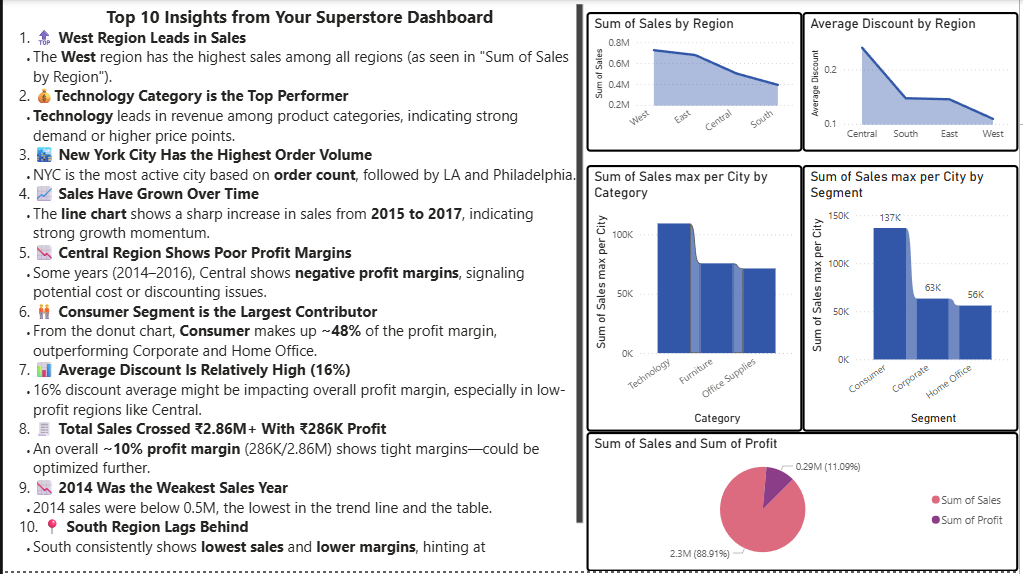

Layout of this report page (visuals, bound fields, positions):
{"tool":"powerbi","page":{"name":"Page 2","canvas":[1280,720],"ordinal":1},"visuals":[{"type":"textbox","box":[16,0,720,704],"z":0},{"type":"lineChart","fields":{"Category":["Cleaned_Superstore_Data.Region Hierarchy.Region"],"Y":["Sum(Cleaned_Superstore_Data.Sales)"]},"box":[736,16,272,176],"z":1000},{"type":"columnChart","fields":{"Y":["Cleaned_Superstore_Data.Sum of Sales max per City"],"Category":["Cleaned_Superstore_Data.Category"]},"box":[736,208,272,336],"z":2000},{"type":"columnChart","fields":{"Y":["Cleaned_Superstore_Data.Sum of Sales max per City"],"Category":["Cleaned_Superstore_Data.Segment"]},"box":[1008,208,272,336],"z":3000},{"type":"lineChart","fields":{"Y":["Cleaned_Superstore_Data.Average Discount"],"Category":["Cleaned_Superstore_Data.Region"]},"box":[1008,16,272,176],"z":4000},{"type":"pieChart","fields":{"Y":["Sum(Cleaned_Superstore_Data.Sales)","Sum(Cleaned_Superstore_Data.Profit)"]},"box":[736,544,544,176],"z":5000}]}

Visuals, with their boxes in screenshot pixels (x1, y1, x2, y2), scaled from the page's 1280x720 canvas onto the 1023x574 screenshot:
textbox: bbox(13, 0, 588, 561)
lineChart - Cleaned_Superstore_Data.Region Hierarchy.Region x Sum(Cleaned_Superstore_Data.Sales): bbox(588, 13, 806, 153)
columnChart - Cleaned_Superstore_Data.Sum of Sales max per City x Cleaned_Superstore_Data.Category: bbox(588, 166, 806, 434)
columnChart - Cleaned_Superstore_Data.Sum of Sales max per City x Cleaned_Superstore_Data.Segment: bbox(806, 166, 1022, 434)
lineChart - Cleaned_Superstore_Data.Average Discount x Cleaned_Superstore_Data.Region: bbox(806, 13, 1022, 153)
pieChart - Sum(Cleaned_Superstore_Data.Sales) x Sum(Cleaned_Superstore_Data.Profit): bbox(588, 434, 1022, 573)
